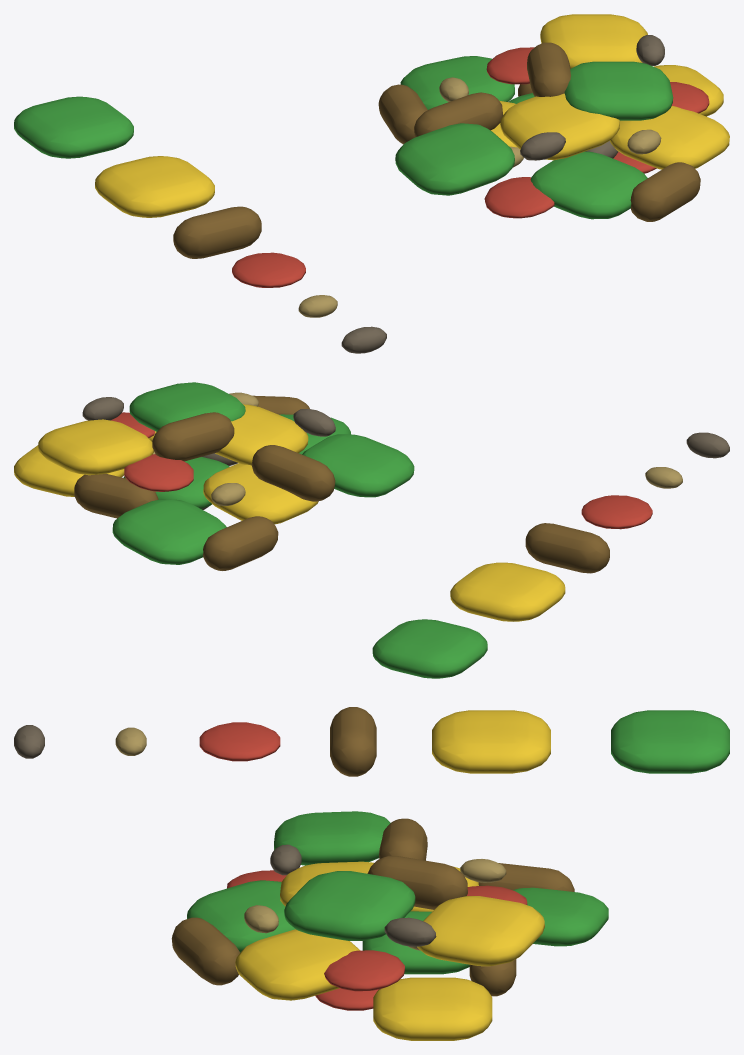
Rendered from Food Piles.fbx.
The picture shows the model from 3 angles, top to bottom: view 1: azimuth 30°, elevation 25°; view 2: azimuth 150°, elevation 25°; view 3: azimuth 270°, elevation 25°; orthographic projection. The views are drawn at different scales.
Parts seen in each view (by area): view 1: FoodPile, FoodPellet.005, FoodPellet.006, FoodPellet.004, FoodPellet.003, FoodPellet.001, FoodPellet.002; view 2: FoodPile, FoodPellet.005, FoodPellet.006, FoodPellet.004, FoodPellet.003, FoodPellet.001, FoodPellet.002; view 3: FoodPile, FoodPellet.006, FoodPellet.005, FoodPellet.004, FoodPellet.003, FoodPellet.001, FoodPellet.002.
Part boxes in pixels (x1,y1,x2,y2): FoodPile: [378, 14, 729, 221]; FoodPellet.005: [95, 156, 214, 217]; FoodPellet.006: [14, 96, 133, 158]; FoodPellet.004: [173, 206, 261, 258]; FoodPellet.003: [232, 252, 305, 287]; FoodPellet.001: [341, 326, 386, 353]; FoodPellet.002: [298, 295, 337, 317]; FoodPile: [14, 382, 414, 570]; FoodPellet.005: [450, 562, 565, 621]; FoodPellet.006: [372, 619, 487, 678]; FoodPellet.004: [525, 523, 609, 573]; FoodPellet.003: [581, 495, 652, 529]; FoodPellet.001: [686, 432, 729, 458]; FoodPellet.002: [645, 467, 682, 488]; FoodPile: [171, 811, 608, 1040]; FoodPellet.006: [611, 710, 729, 773]; FoodPellet.005: [432, 710, 550, 773]; FoodPellet.004: [330, 707, 376, 776]; FoodPellet.003: [199, 722, 280, 761]; FoodPellet.001: [14, 725, 44, 758]; FoodPellet.002: [115, 727, 146, 755].
Size of the model in its own units: 1536 by 266 by 1499.
